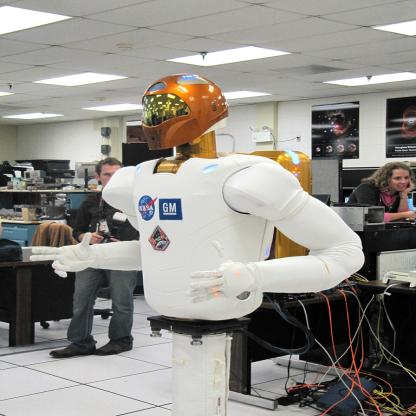Helmet: (144, 71, 236, 152)
